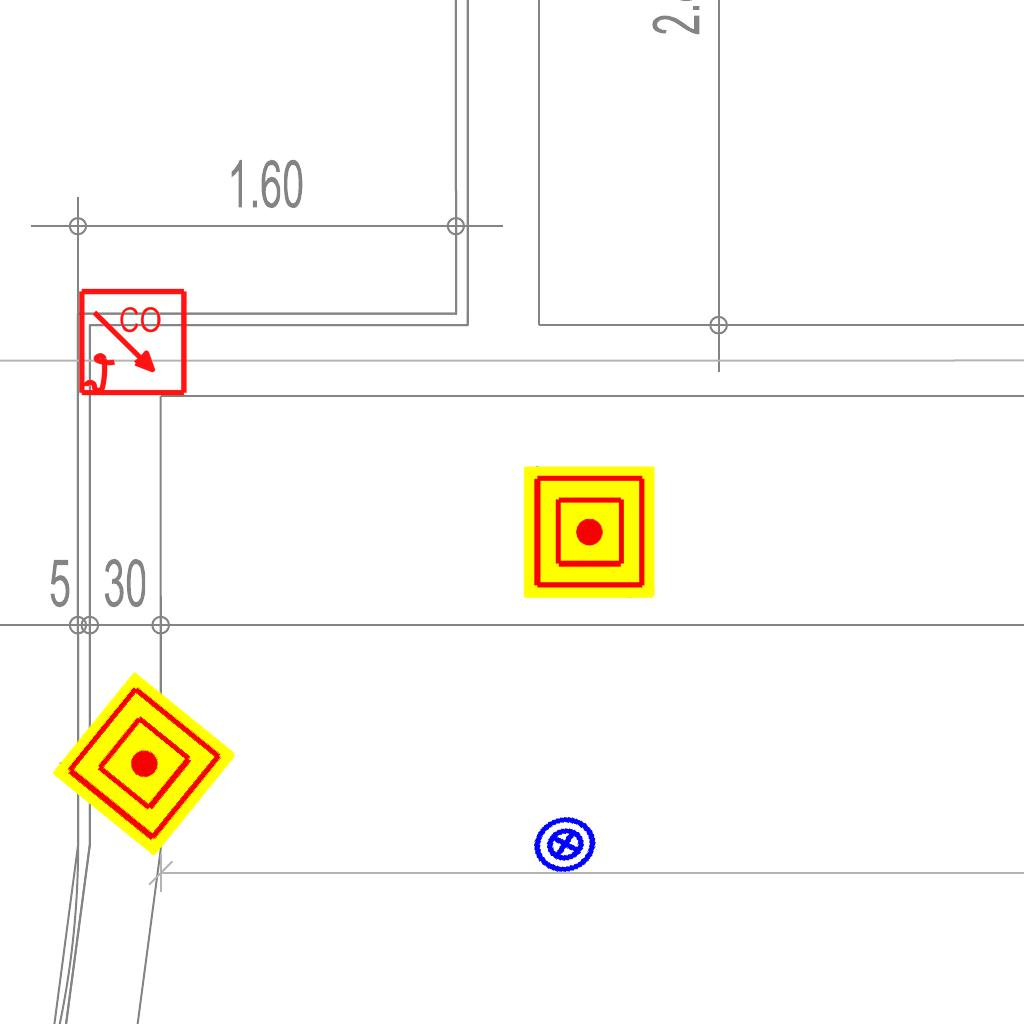NAM-Nichtautomatischer_Melder: (51, 671, 237, 857), (523, 466, 655, 598)
ROA_Rauchmelder_optisch_mit_Signalgeber_(Sockelsirene): (77, 287, 190, 400)
Taster_beleuchtet: (524, 803, 606, 885)
